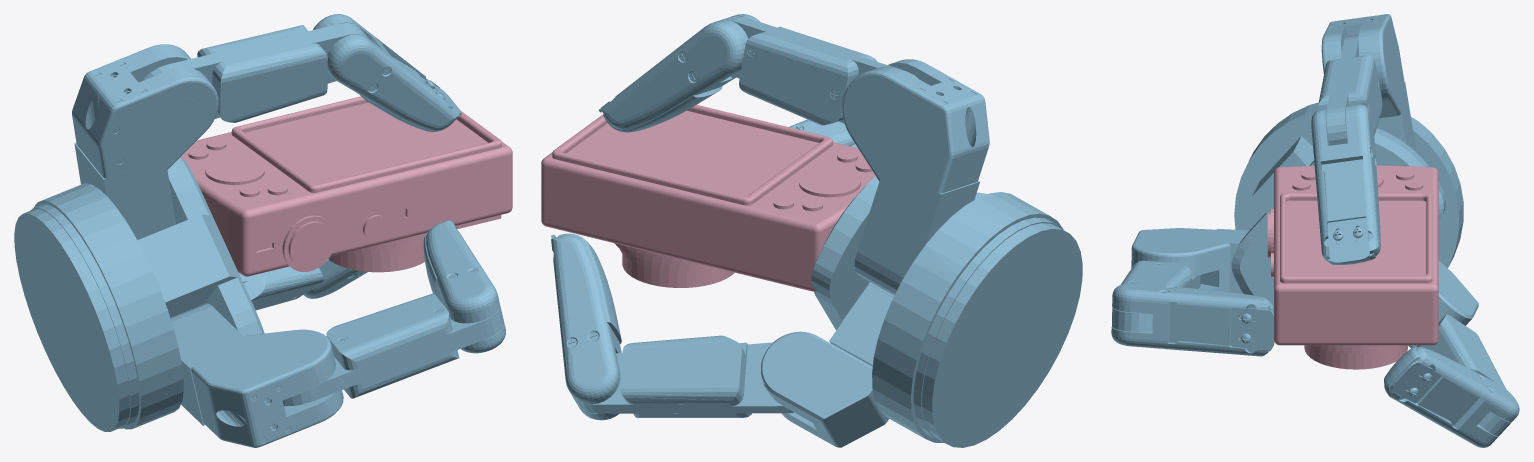
3 renders of one model, left to right at view 1: azimuth 30°, elevation 25°; view 2: azimuth 150°, elevation 25°; view 3: azimuth 270°, elevation 25°, orthographic. The views are drawn at different scales.
Visible parts, largest first — view 1: world; view 2: world; view 3: world.
Boxes of the visible parts, box(x1,y1,x2,y2) form: world: box(14, 14, 512, 447); world: box(541, 14, 1082, 447); world: box(1111, 14, 1519, 447).
Size of the model in its own units: 0.181 by 0.1379 by 0.1604.
